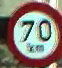Speed limit: (6, 3, 61, 65)
